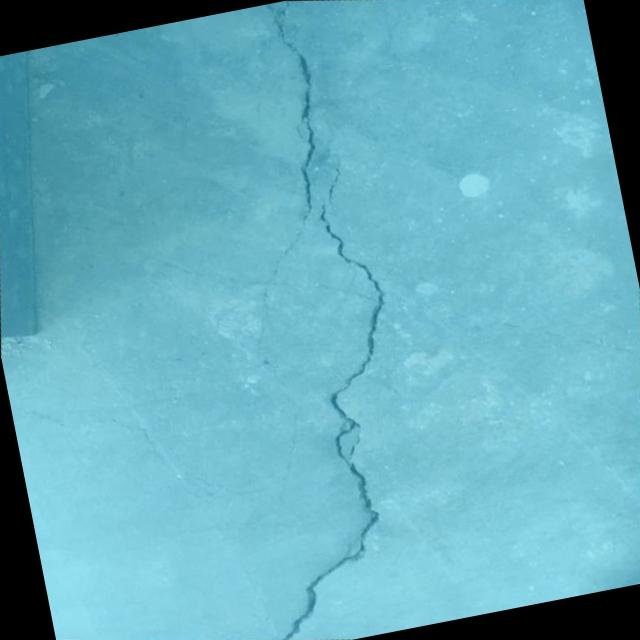crack: (197, 183, 464, 640), (183, 0, 384, 397), (99, 396, 246, 514), (319, 158, 350, 212)
